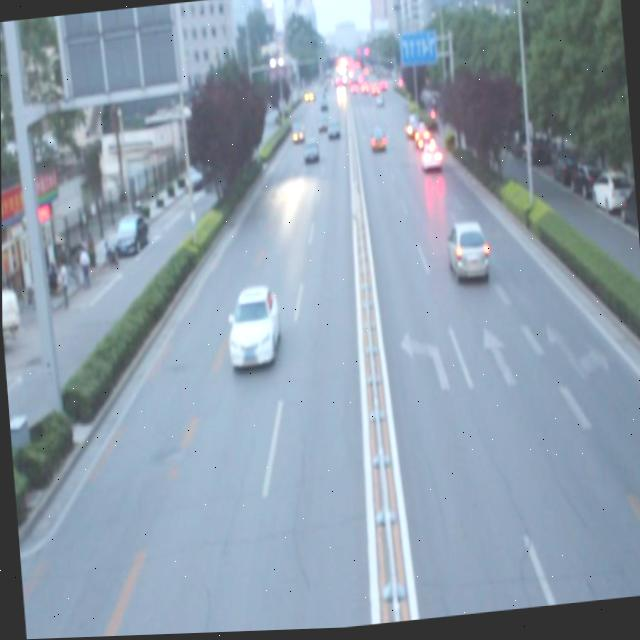car: (223, 286, 279, 372), (444, 220, 490, 286)
